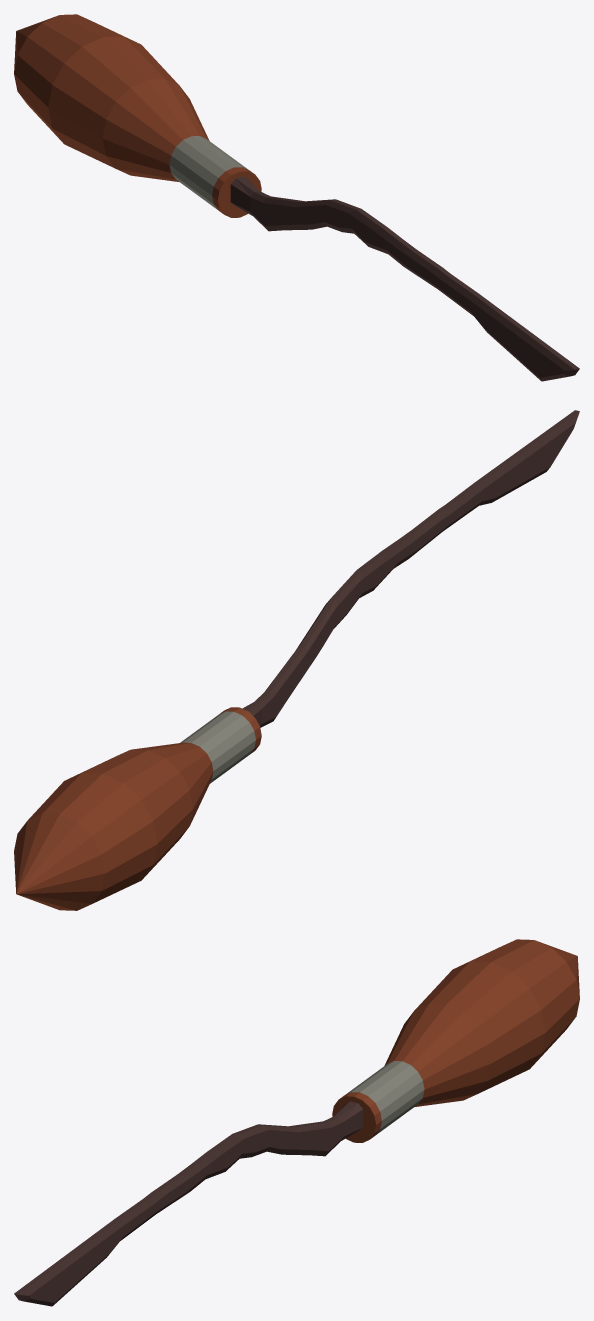
The model's file is firebolt_supreme.obj.
3 renders of one model, top to bottom at view 1: azimuth 30°, elevation 25°; view 2: azimuth 150°, elevation 25°; view 3: azimuth 330°, elevation 25°, orthographic.
Parts seen in each view (by area): view 1: Body; view 2: Body; view 3: Body.
Part boxes in pixels (left/top/right/bottom): Body: left=14, top=14, right=579, bottom=381; Body: left=14, top=410, right=579, bottom=910; Body: left=14, top=939, right=579, bottom=1306.
Bounding box in the file's own units: 0.9753 × 1.12 × 8.68.
